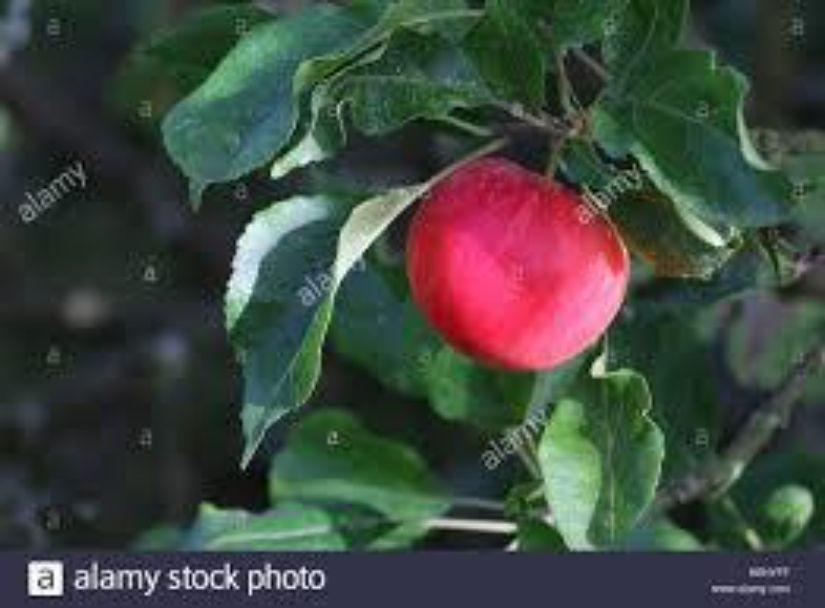HEALTHY: (395, 150, 645, 386)
